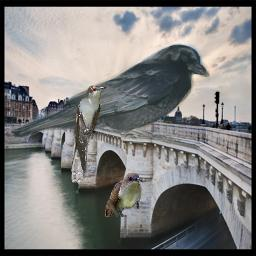Crow: (9, 43, 210, 141)
Cuckoo: (70, 84, 107, 183), (105, 173, 143, 217)
